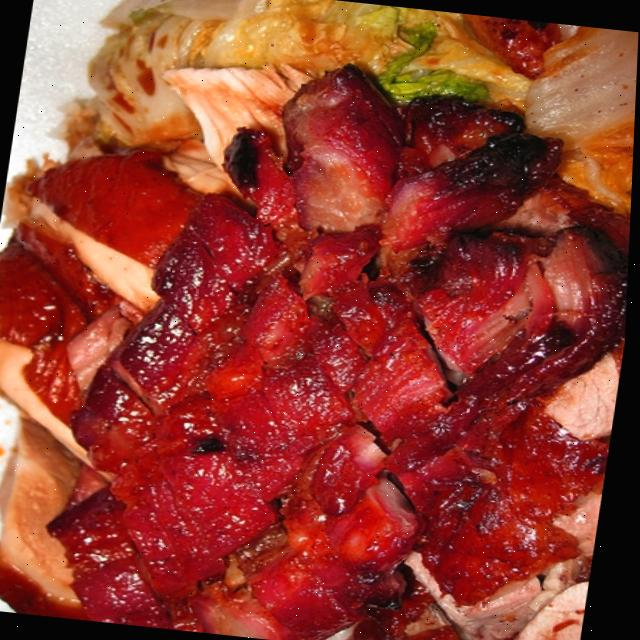烧串烤肉: (0, 11, 640, 640)
